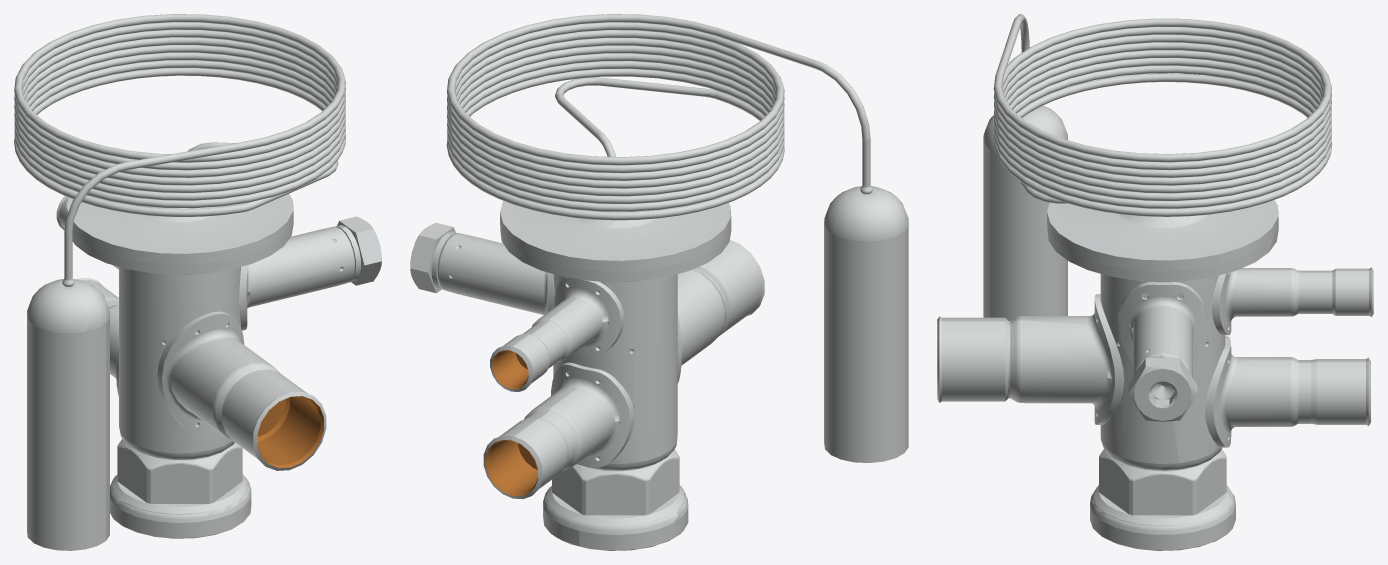
Rendered from TU_Updated.gltf.
3 renders of one model, left to right at view 1: azimuth 30°, elevation 25°; view 2: azimuth 150°, elevation 25°; view 3: azimuth 270°, elevation 25°, orthographic.
Parts seen in each view (by area): view 1: Solid1; view 2: Solid1; view 3: Solid1.
Boxes of the visible parts, left/top/right/bottom form: Solid1: left=14, top=14, right=381, bottom=550; Solid1: left=410, top=14, right=908, bottom=550; Solid1: left=937, top=14, right=1373, bottom=550.
Bounding box in the file's own units: 3.14 × 3.2 × 2.89.
